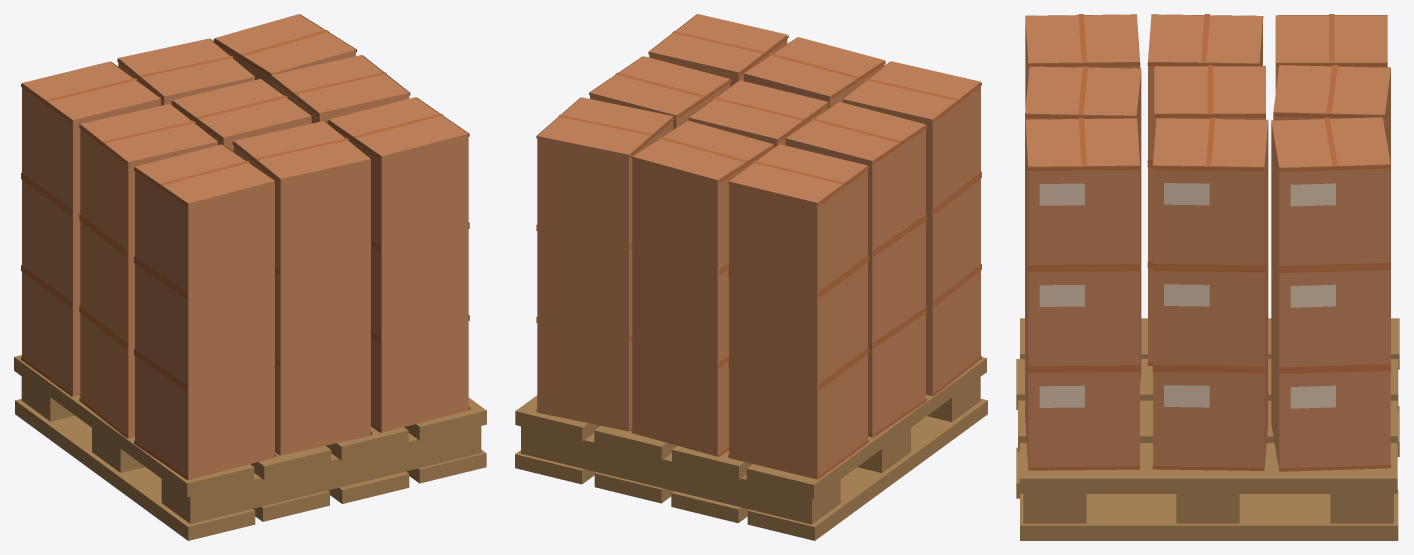
File: SRA_Box_Pallet_03.glb
3 views of the same model, side by side, from view 1: azimuth 30°, elevation 25°; view 2: azimuth 150°, elevation 25°; view 3: azimuth 270°, elevation 25° (orthographic). The views are drawn at different scales.
Visible parts, largest first — view 1: Box_Pallet_03; view 2: Box_Pallet_03; view 3: Box_Pallet_03.
Boxes of the visible parts, x1,y1,x2,y2 form: Box_Pallet_03: (14,14,486,540); Box_Pallet_03: (515,14,987,540); Box_Pallet_03: (1016,14,1399,540).
Size of the model in its own units: 0.9506 by 1.02 by 0.9613.
1 material, 1 textured.
